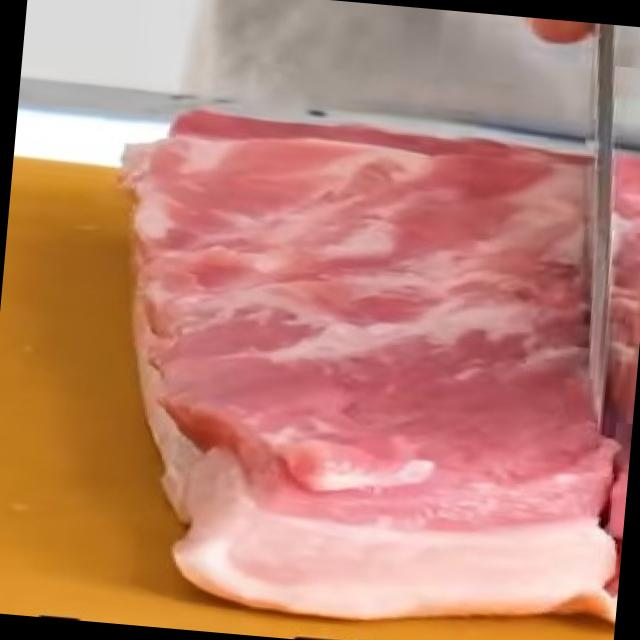pork: (119, 110, 614, 624)
